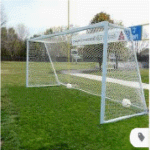goals: (24, 20, 150, 123)
